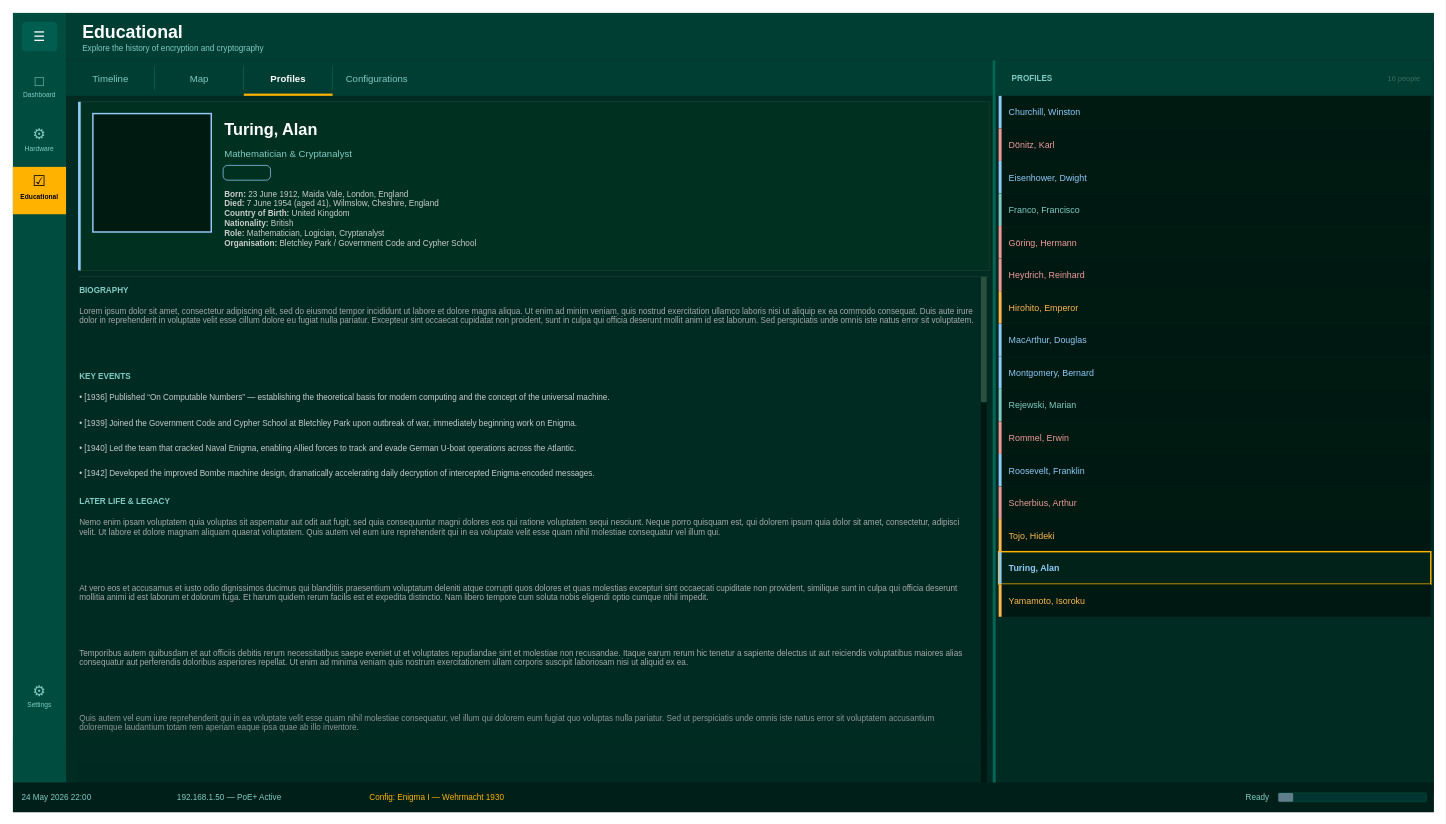
Image size: 1446x824. Some labels were removed from this diagram. The shapes that lost their labels are listed below. From the top down, each one's box as (x1, y1, x2, y2) in pixels, then its label:
(92, 112, 212, 232): AT
(222, 165, 270, 180): ALLIED
(13, 741, 66, 782): [Logo] v0.1.0
